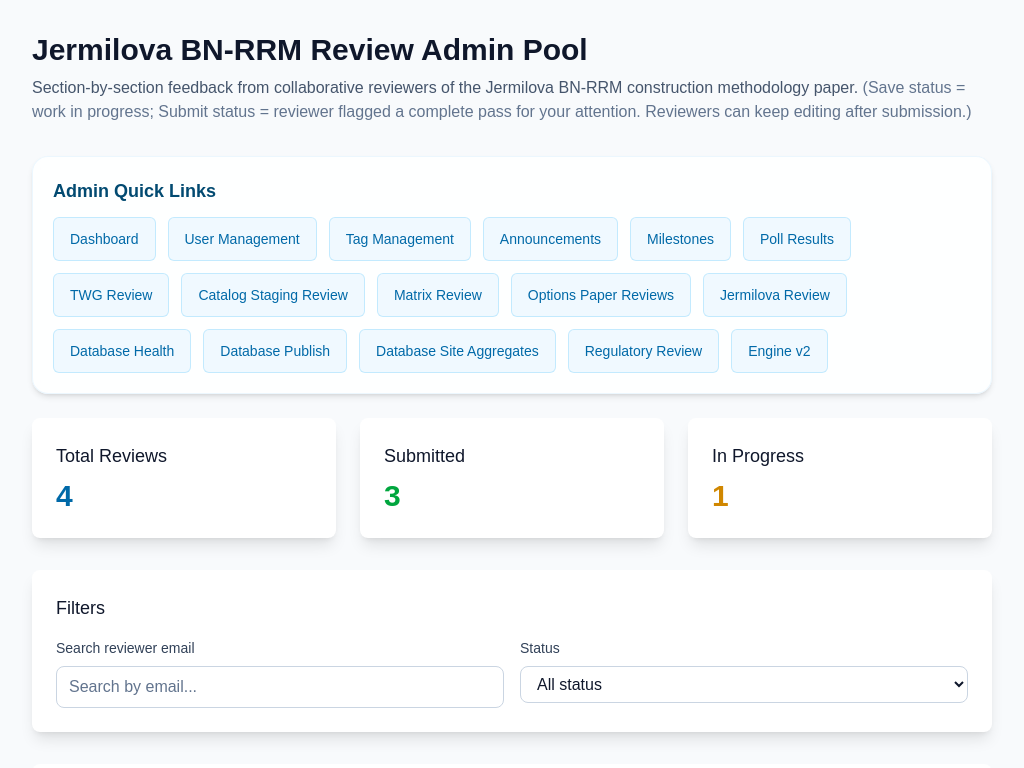
Scenario: JermilovaReviewClient › shows a no-match message when filters narrow to zero rows
In the field with test id "jermilova-admin-search": (280,687) [56, 666, 504, 708], type "no-such-user-zzzz"
(page scrolled)
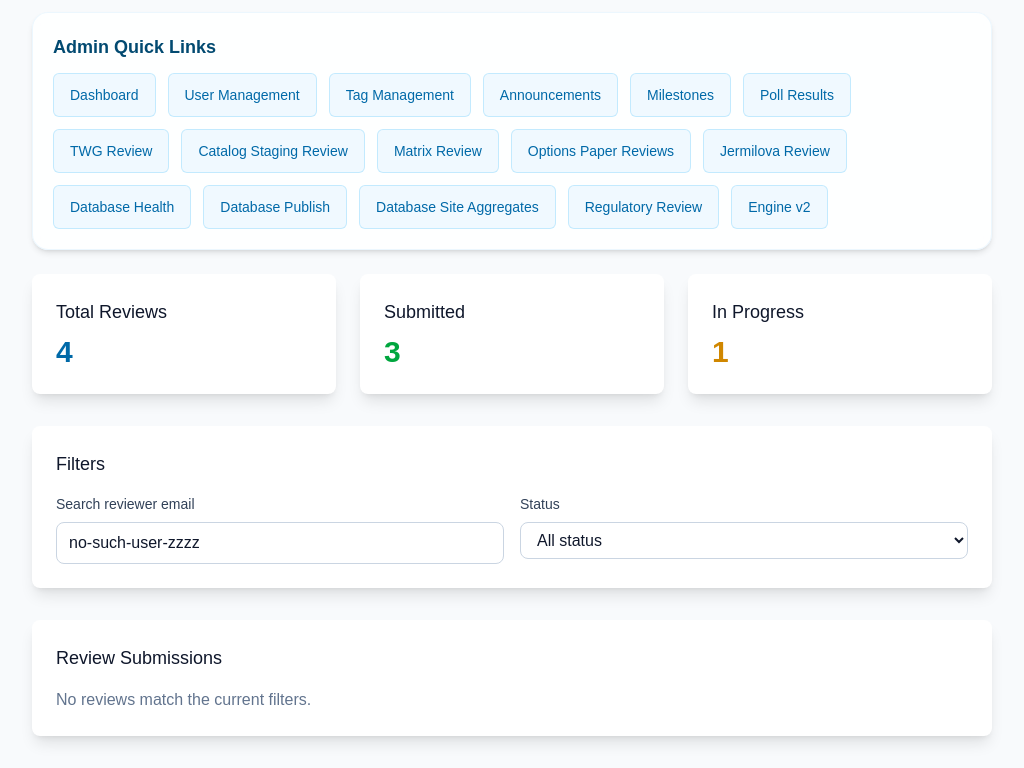
Expected: the text "No reviews match the current filters." is shown, [56, 691, 311, 708]
